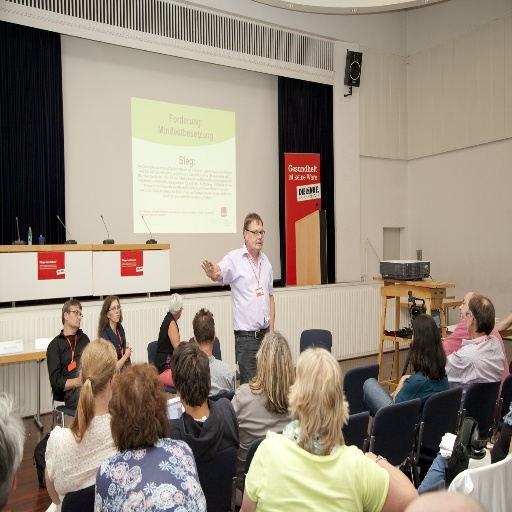hand: (199, 255, 221, 280), (363, 450, 375, 460), (125, 345, 131, 359), (75, 375, 80, 385), (403, 375, 411, 379)
